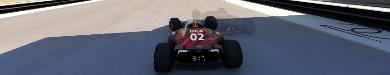Car: (152, 15, 243, 71)
